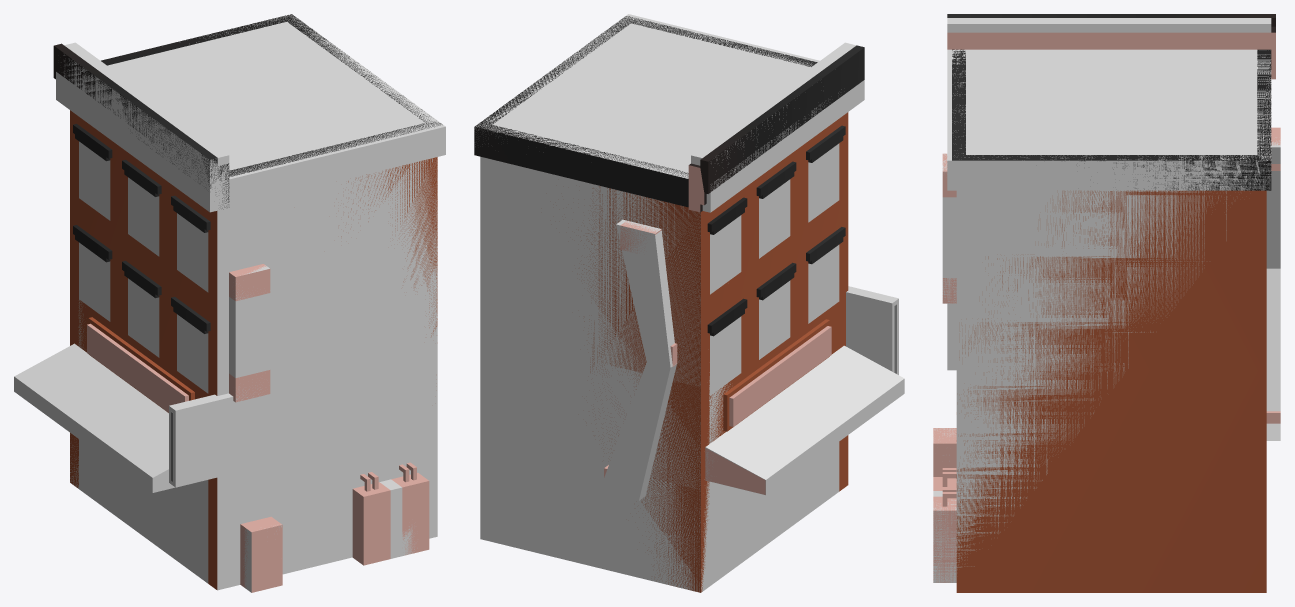
File: Building_B2_Home10_1_01.FBX
3 views of the same model, side by side, from view 1: azimuth 30°, elevation 25°; view 2: azimuth 150°, elevation 25°; view 3: azimuth 270°, elevation 25° (orthographic). The views are drawn at different scales.
Visible parts, largest first — view 1: Building_B2_Home10_Damage_1_01, Building_B2_Home10_Live_1_01; view 2: Building_B2_Home10_Damage_1_01, Building_B2_Home10_Live_1_01; view 3: Building_B2_Home10_Live_1_01, Building_B2_Home10_Damage_1_01.
Part boxes in pixels (x1,y1,x2,y2): Building_B2_Home10_Damage_1_01: [14, 14, 445, 592]; Building_B2_Home10_Live_1_01: [53, 14, 442, 592]; Building_B2_Home10_Damage_1_01: [474, 14, 904, 592]; Building_B2_Home10_Live_1_01: [474, 16, 896, 592]; Building_B2_Home10_Live_1_01: [933, 14, 1280, 592]; Building_B2_Home10_Damage_1_01: [933, 18, 1280, 582].
Bounding box in the file's own units: 8.84 × 12.96 × 8.88.
